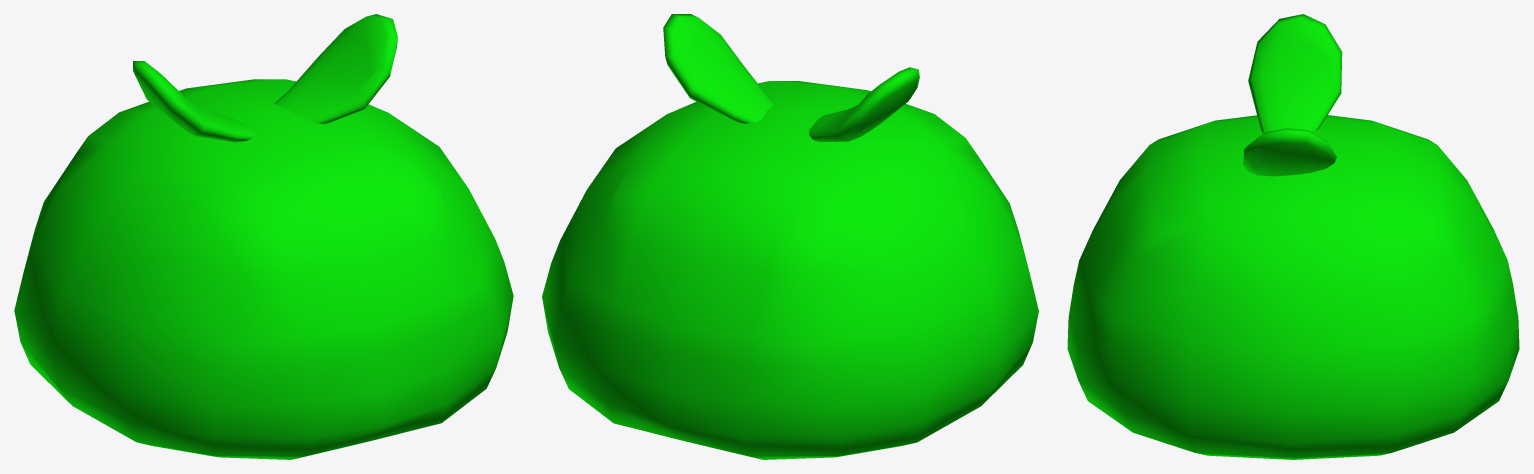
File: m_splitterhalf.fbx
3 renders of one model, left to right at view 1: azimuth 30°, elevation 25°; view 2: azimuth 150°, elevation 25°; view 3: azimuth 270°, elevation 25°, orthographic. The views are drawn at different scales.
Parts seen in each view (by area): view 1: m_splitterhalf; view 2: m_splitterhalf; view 3: m_splitterhalf.
Boxes of the visible parts, x1,y1,x2,y2 form: m_splitterhalf: [14, 14, 513, 459]; m_splitterhalf: [542, 14, 1038, 459]; m_splitterhalf: [1067, 14, 1519, 459].
Size of the model in its own units: 1.12 by 0.8518 by 1.11.
